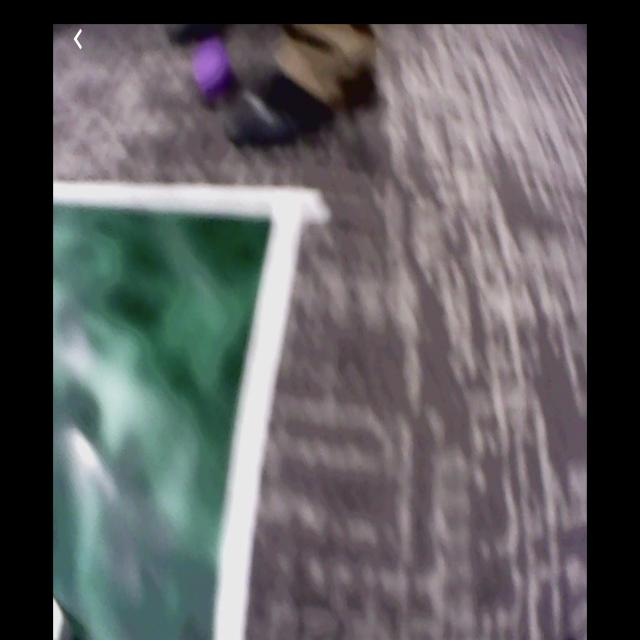ball: (192, 44, 229, 97)
